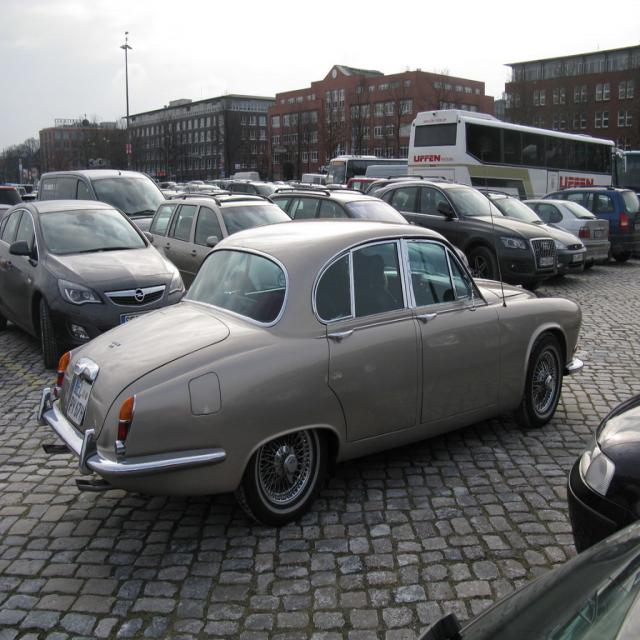other: (0, 163, 639, 532), (417, 516, 639, 638), (566, 390, 640, 551)
